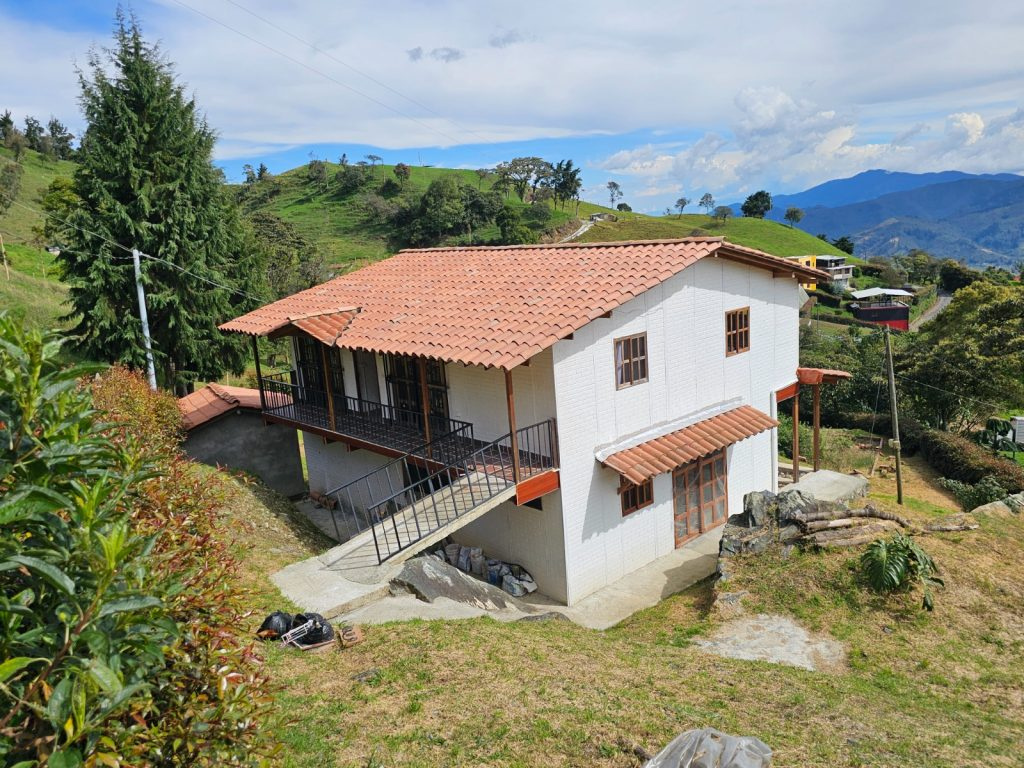House: (219, 207, 873, 618)
